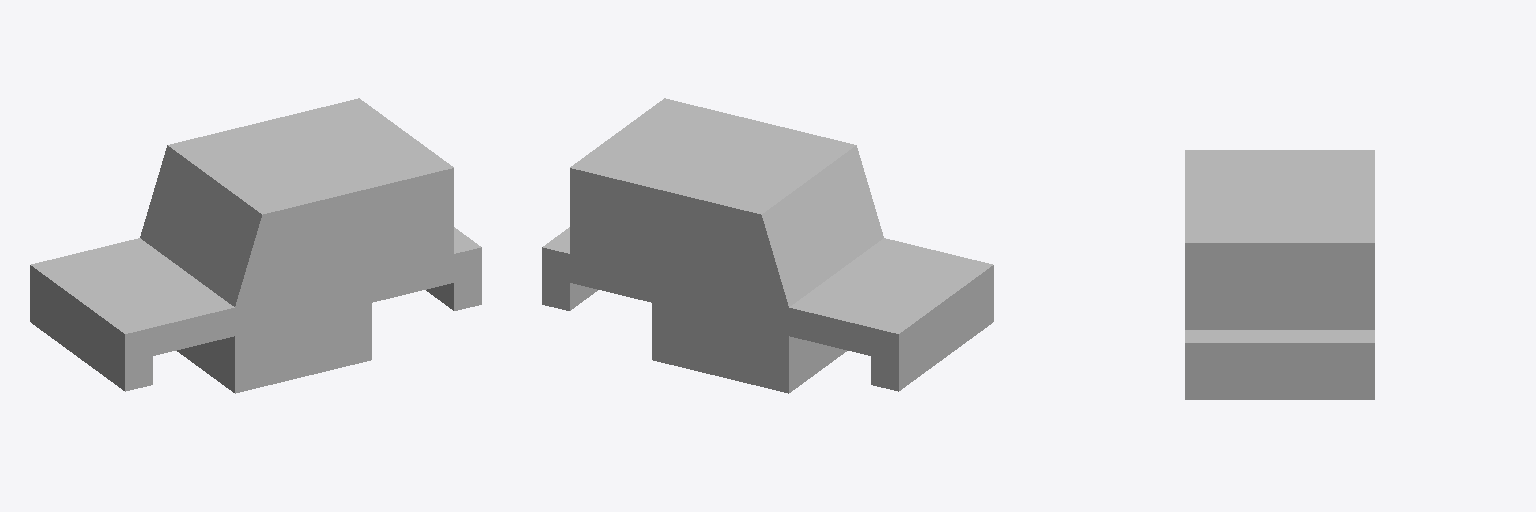
The model's file is vehicles_ground_car_offroader.obj.
3 views of the same model, side by side, from view 1: azimuth 30°, elevation 25°; view 2: azimuth 150°, elevation 25°; view 3: azimuth 270°, elevation 25° (orthographic).
Visible parts, largest first — view 1: cuboid; view 2: cuboid; view 3: cuboid.
Part boxes in pixels (x1,y1,x2,y2): cuboid: (30,98,481,393); cuboid: (542,98,993,393); cuboid: (1185,150,1374,399).
Bounding box in the file's own units: 0.8125 × 0.375 × 0.375.